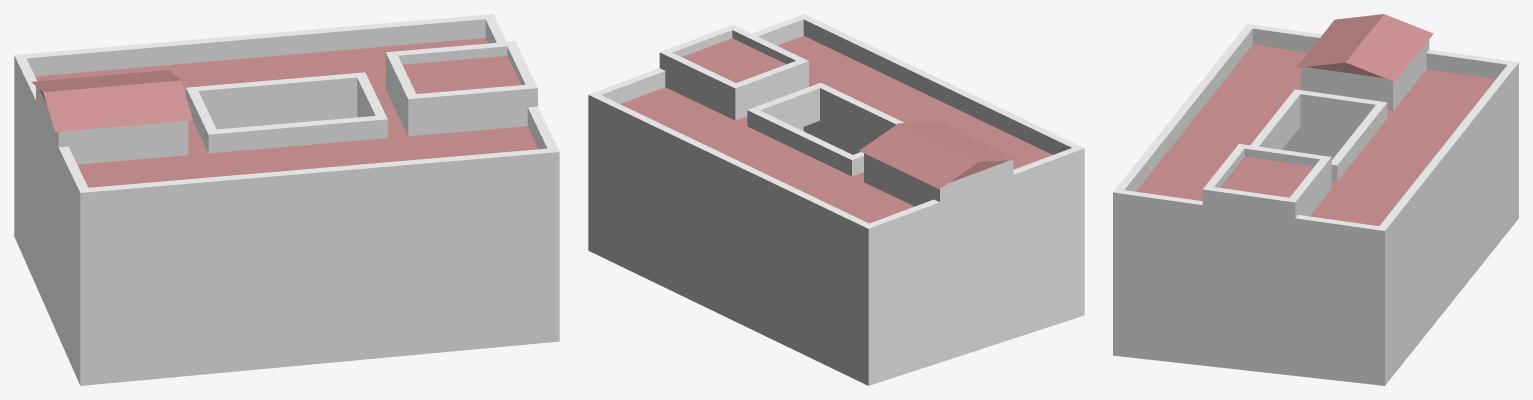
File: LOD_Block_3_40.glb
The picture shows the model from 3 angles, left to right: view 1: azimuth 30°, elevation 25°; view 2: azimuth 150°, elevation 25°; view 3: azimuth 270°, elevation 25°; orthographic projection. The views are drawn at different scales.
Visible parts, largest first — view 1: mesh_CityEngineMaterial_753; view 2: mesh_CityEngineMaterial_753; view 3: mesh_CityEngineMaterial_753.
Part boxes in pixels (x1,y1,x2,y2): mesh_CityEngineMaterial_753: (14, 14, 559, 385); mesh_CityEngineMaterial_753: (588, 14, 1084, 385); mesh_CityEngineMaterial_753: (1113, 14, 1518, 385).
Size of the model in its own units: 27.42 by 11.96 by 22.69.
